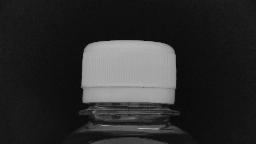Good Cap: (70, 36, 186, 122)
